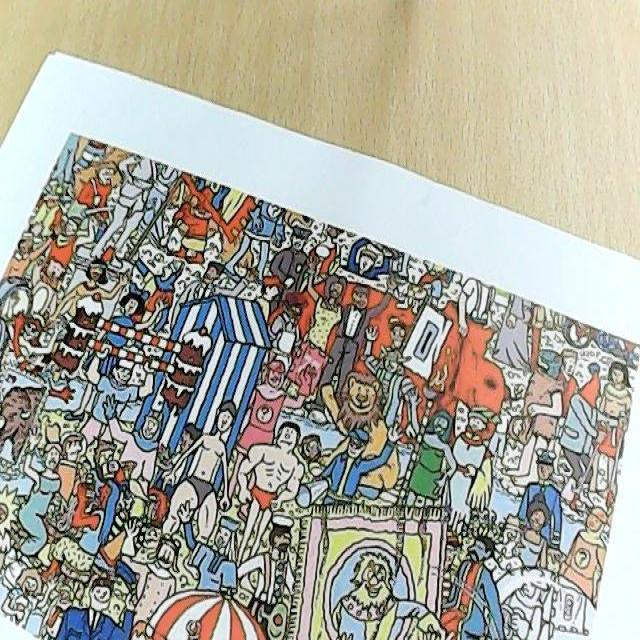waldo: (385, 315, 410, 348)
